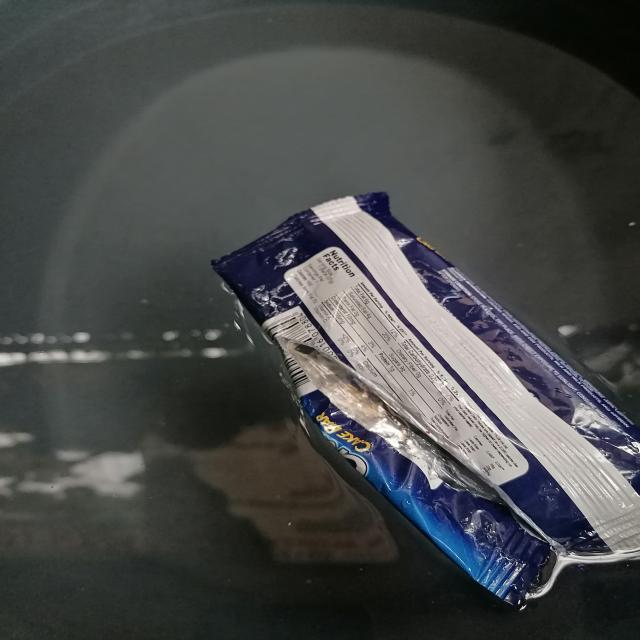Plastic Wrapper: (212, 192, 640, 607)
